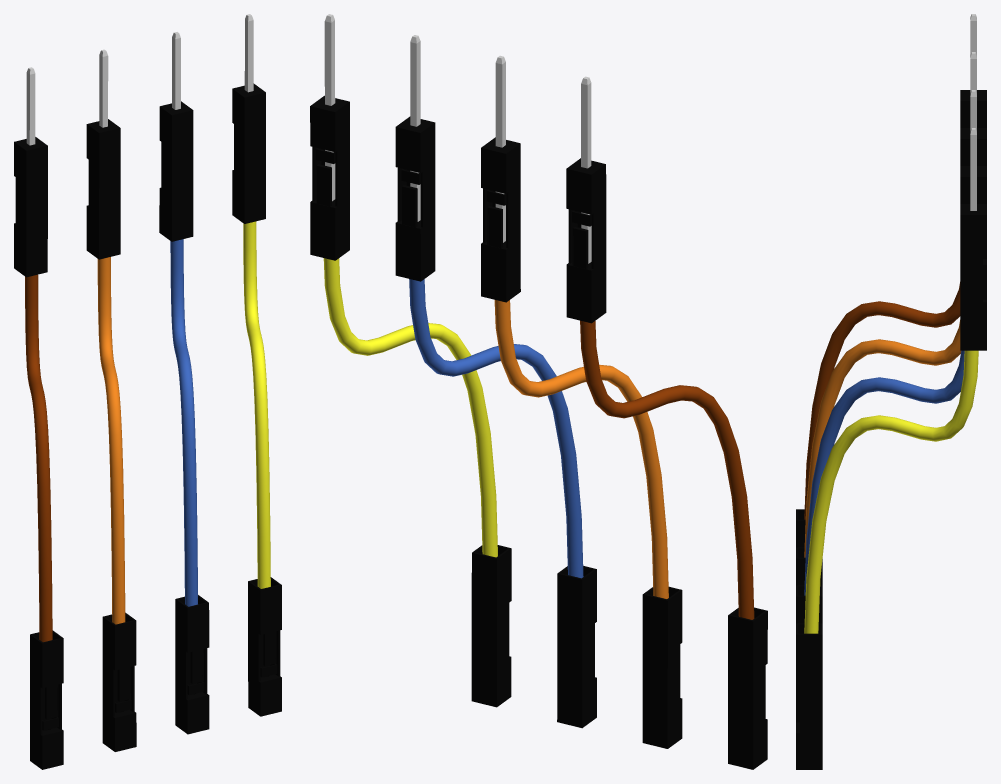
File: 18. FM CABLES.gltf
The picture shows the model from 3 angles, left to right: view 1: azimuth 30°, elevation 25°; view 2: azimuth 150°, elevation 25°; view 3: azimuth 270°, elevation 25°; orthographic projection. The views are drawn at different scales.
Parts seen in each view (by area): view 1: BézierCurve.006; view 2: BézierCurve.006; view 3: BézierCurve.006.
Part boxes in pixels (x1,y1,x2,y2): BézierCurve.006: [14, 14, 281, 769]; BézierCurve.006: [310, 14, 767, 769]; BézierCurve.006: [796, 14, 986, 769].
Size of the model in its own units: 0.0351 by 0.0695 by 0.018.
